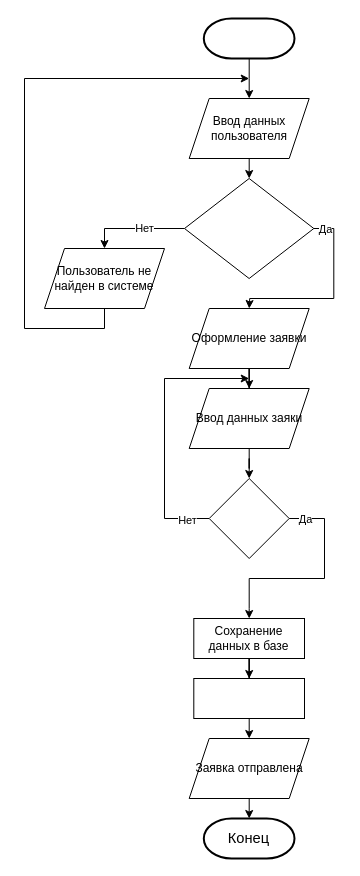
Image size: 360x876. Some labels were removed from this diagram. Each missing label, with the box of its shape:
Данные коректны: (208, 478, 289, 558)
Начало: (202, 17, 295, 59)
Отправка работникам: (193, 678, 304, 718)
Пользователь есть в ситесме: (184, 178, 314, 278)
